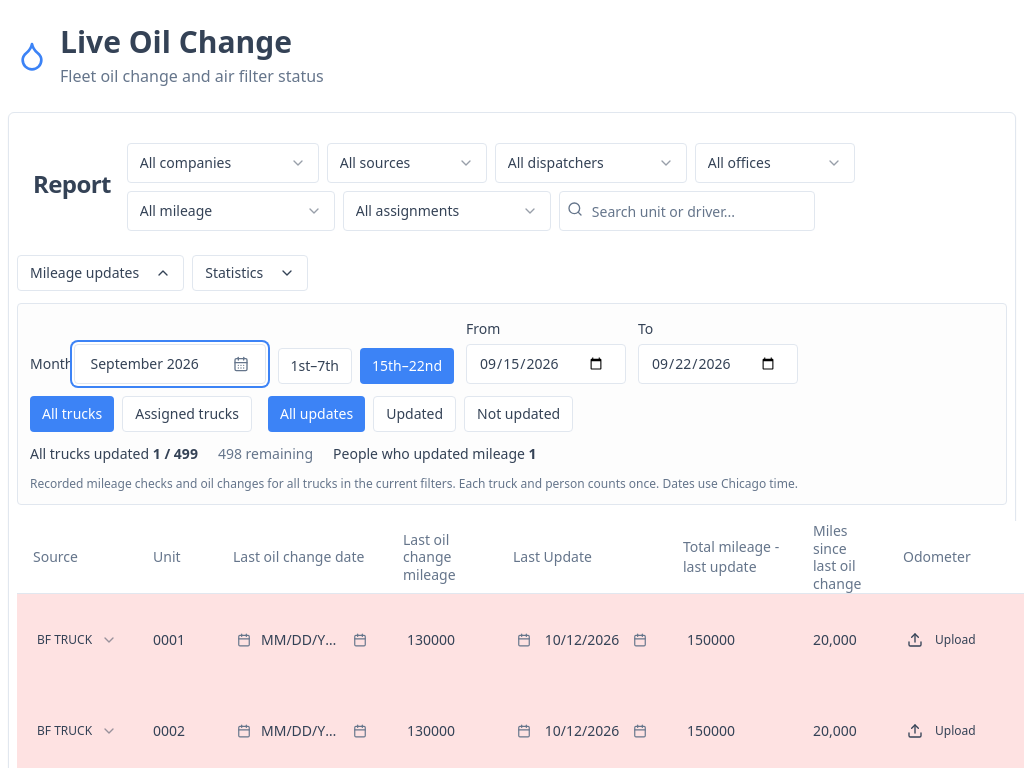
Scenario: does not rebuild truck cells when opening mileage updates or changing the month
Earlier steps of the test are not shown.
Check: the message shows "All trucks updated 1 / 499", box [30, 444, 537, 463]
Click the button "Updated": (415, 414) [373, 396, 456, 432]
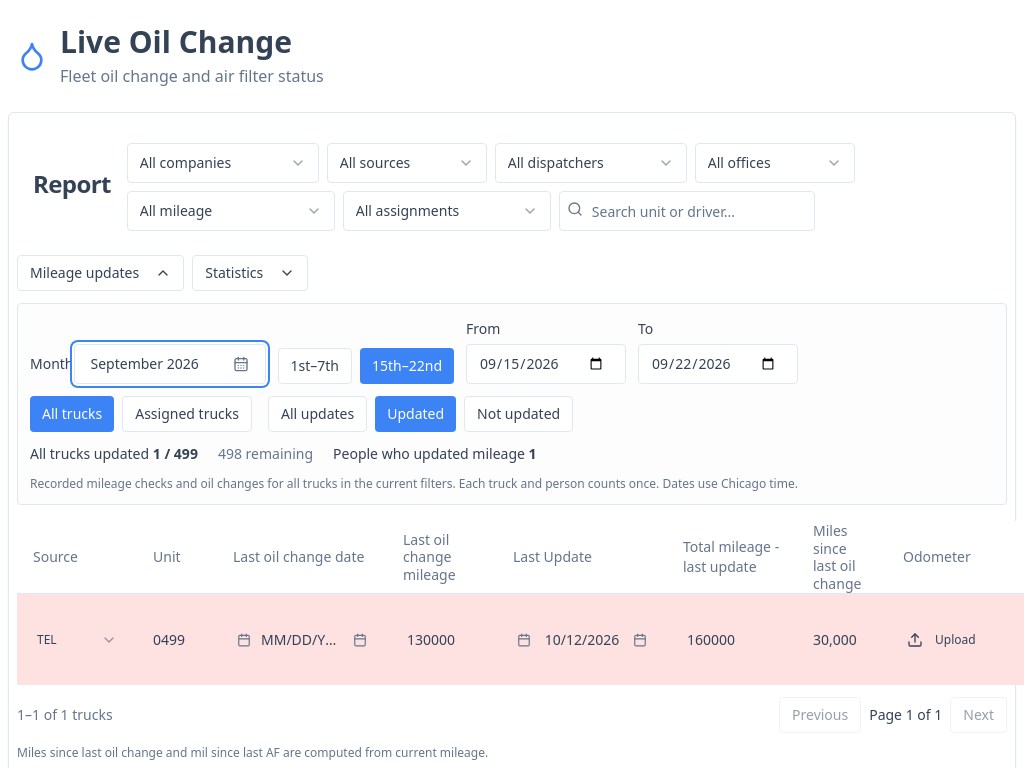
Check: the message shows "1 / 499", box [30, 444, 537, 463]
Check: the number of links named "Open service log" is 1, box [153, 630, 185, 648]
